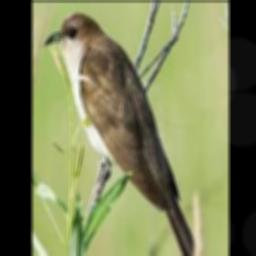Cuckoo: (44, 12, 221, 256)
